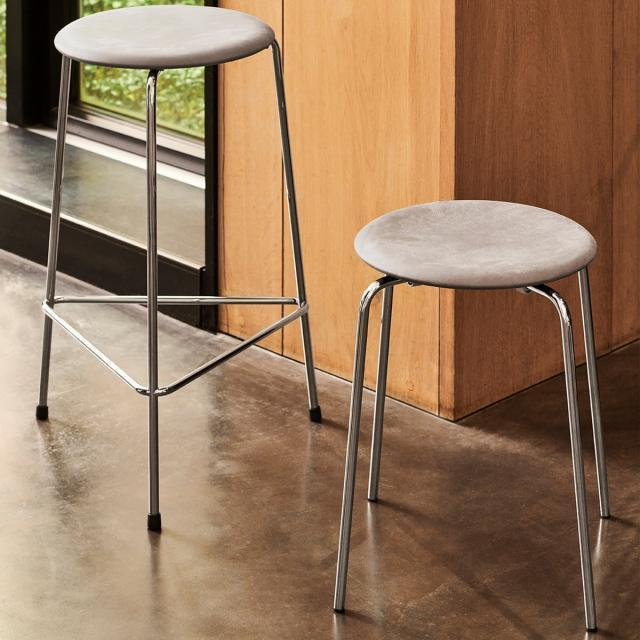chair: (36, 4, 322, 531), (332, 198, 609, 634)
